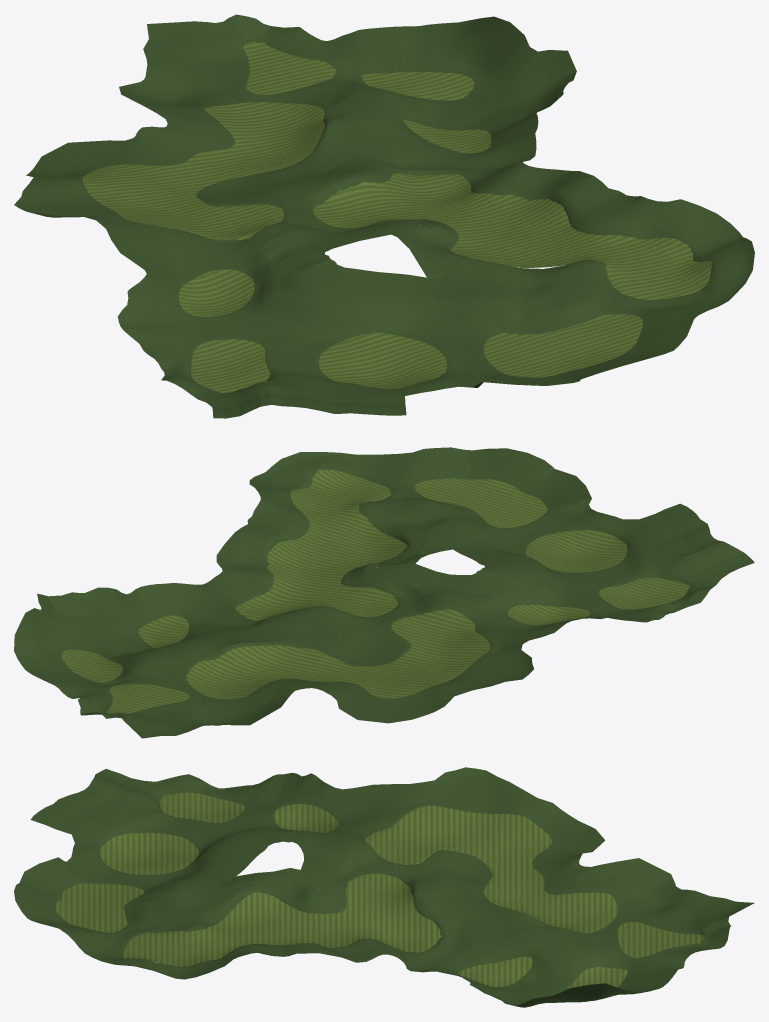
The model's file is fairwayRough.fbx.
3 views of the same model, one above another, from view 1: azimuth 30°, elevation 25°; view 2: azimuth 150°, elevation 25°; view 3: azimuth 270°, elevation 25° (orthographic). The views are drawn at different scales.
Parts seen in each view (by area): view 1: rough1, fairway1; view 2: rough1, fairway1; view 3: rough1, fairway1.
Part boxes in pixels (bbox=[...]): rough1: bbox=[14, 14, 754, 418]; fairway1: bbox=[82, 41, 712, 392]; rough1: bbox=[14, 447, 754, 738]; fairway1: bbox=[61, 469, 689, 713]; rough1: bbox=[14, 767, 754, 1007]; fairway1: bbox=[55, 792, 703, 989].
Bounding box in the file's own units: 116 × 9.99 × 153.
Materials: 2 (2 with a texture image).
